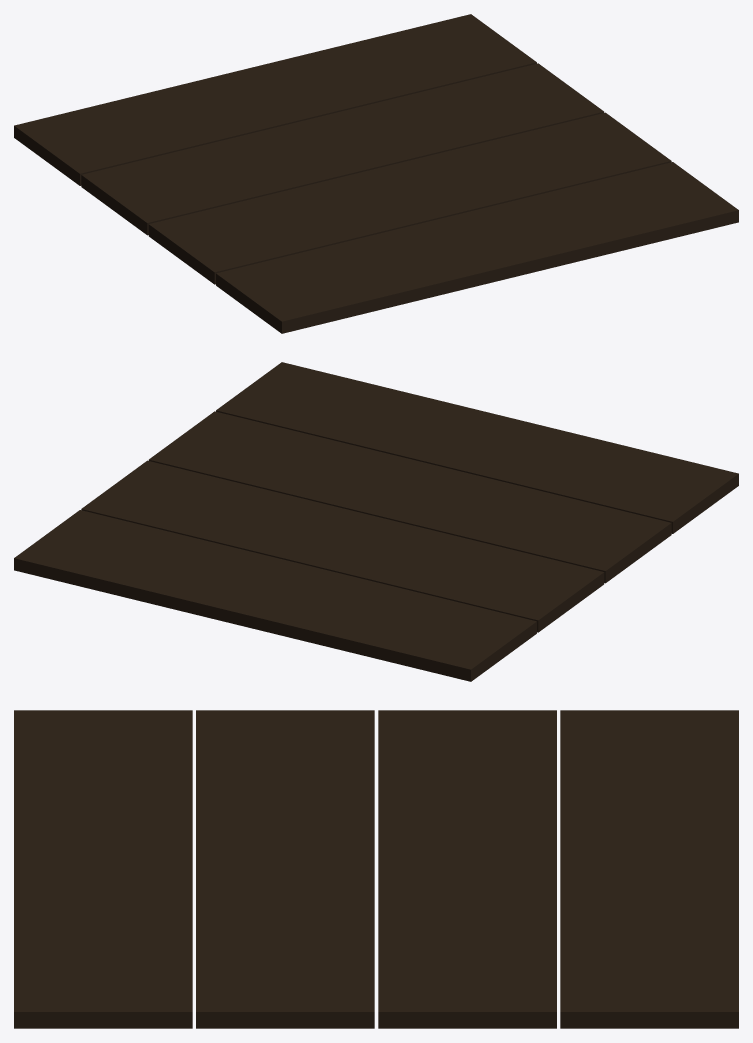
The model's file is raum_fliese_b.glb.
3 views of the same model, one above another, from view 1: azimuth 30°, elevation 25°; view 2: azimuth 150°, elevation 25°; view 3: azimuth 270°, elevation 25° (orthographic). The views are drawn at different scales.
Parts seen in each view (by area): view 1: boden; view 2: boden; view 3: boden.
Part boxes in pixels (x1=…): boden: x1=14, y1=14, x2=738, y2=333; boden: x1=14, y1=362, x2=738, y2=681; boden: x1=14, y1=710, x2=738, y2=1028.
Bounding box in the file's own units: 0.98 × 0.025 × 0.995.
